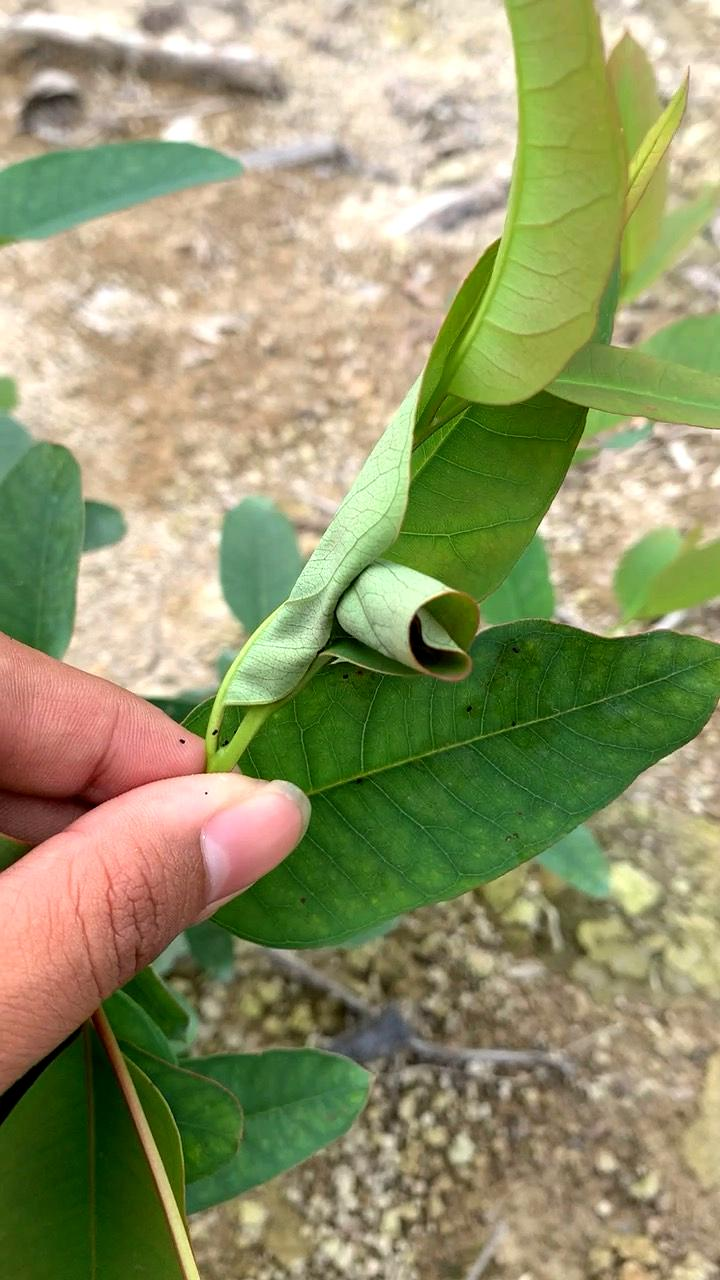Leaf Roller - Leaf: (240, 493, 509, 712)
